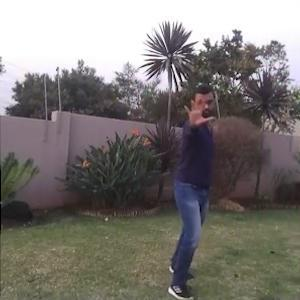follow_hand: (180, 93, 217, 131)
